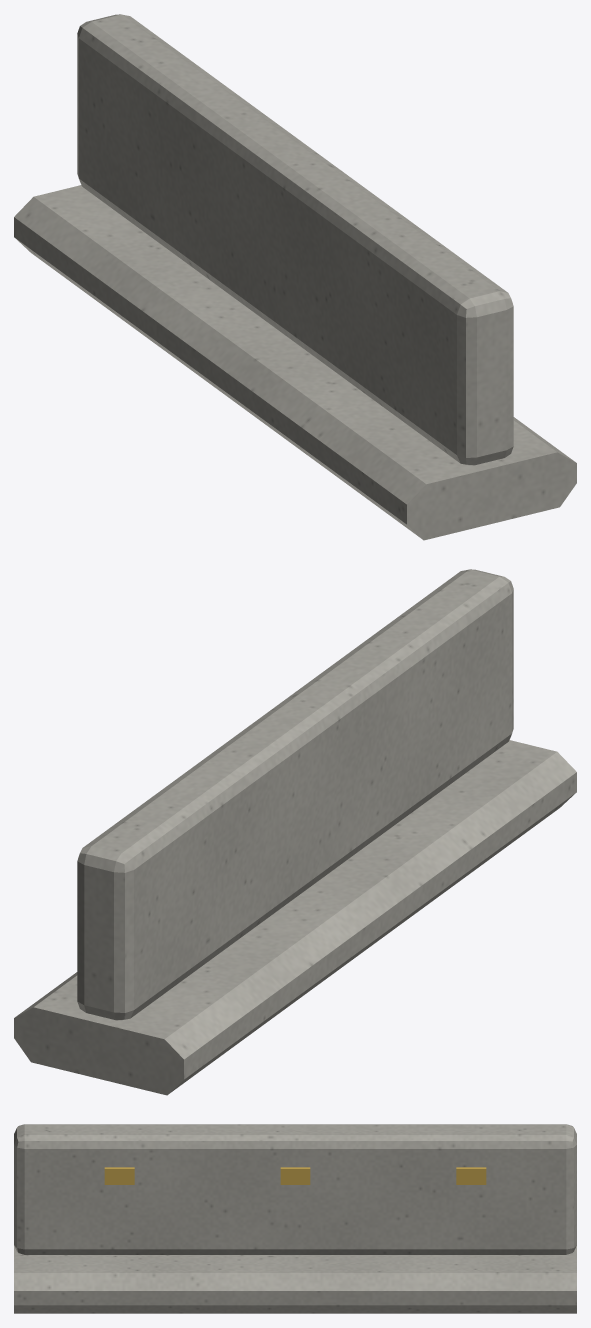
The model's file is mc_barrier.glb.
3 renders of one model, top to bottom at view 1: azimuth 30°, elevation 25°; view 2: azimuth 150°, elevation 25°; view 3: azimuth 270°, elevation 25°, orthographic. The views are drawn at different scales.
Parts seen in each view (by area): view 1: mc_barrier__Geometry; view 2: mc_barrier__Geometry; view 3: mc_barrier__Geometry.
Boxes of the visible parts, <box> form: mc_barrier__Geometry: <box>14,14,576,540</box>; mc_barrier__Geometry: <box>14,569,576,1095</box>; mc_barrier__Geometry: <box>14,1124,576,1313</box>.
Bounding box in the file's own units: 0.8 × 1 × 3.2.
Materials: 2 (1 with a texture image).
